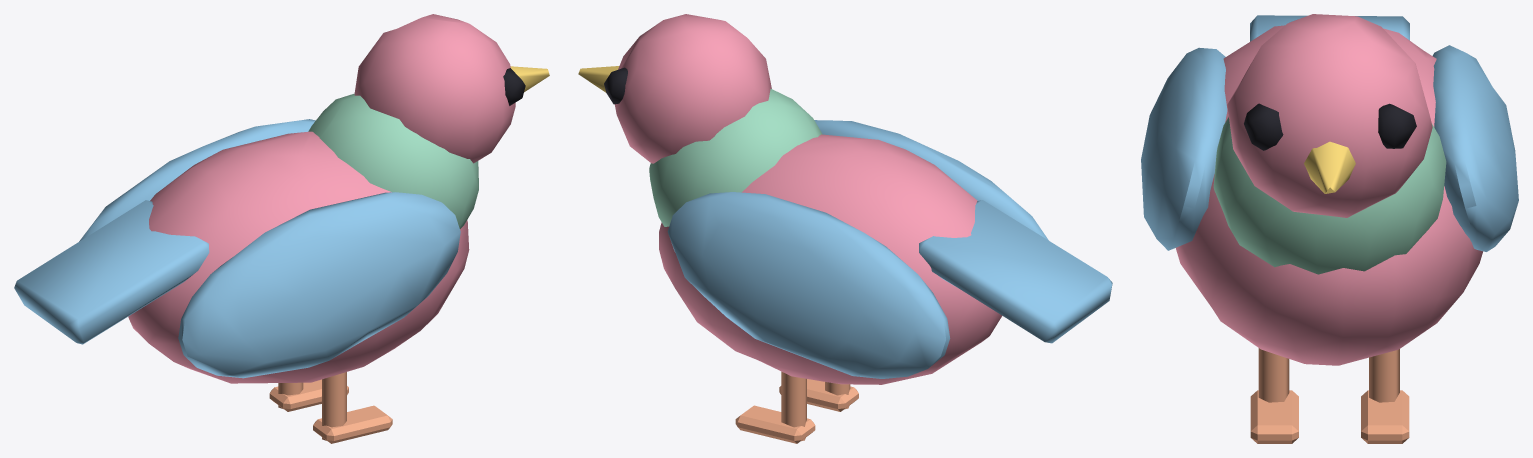
Rendered from rainbow_pigeon.glb.
3 views of the same model, side by side, from view 1: azimuth 30°, elevation 25°; view 2: azimuth 150°, elevation 25°; view 3: azimuth 270°, elevation 25° (orthographic). The views are drawn at different scales.
Visible parts, largest first — view 1: rainbow_pigeon; view 2: rainbow_pigeon; view 3: rainbow_pigeon.
Boxes of the visible parts, bbox=[...] form: rainbow_pigeon: bbox=[14, 14, 549, 443]; rainbow_pigeon: bbox=[578, 14, 1112, 443]; rainbow_pigeon: bbox=[1141, 14, 1518, 443].
Bounding box in the file's own units: 0.5359 × 0.3728 × 0.2739.
1 material, 1 textured.
